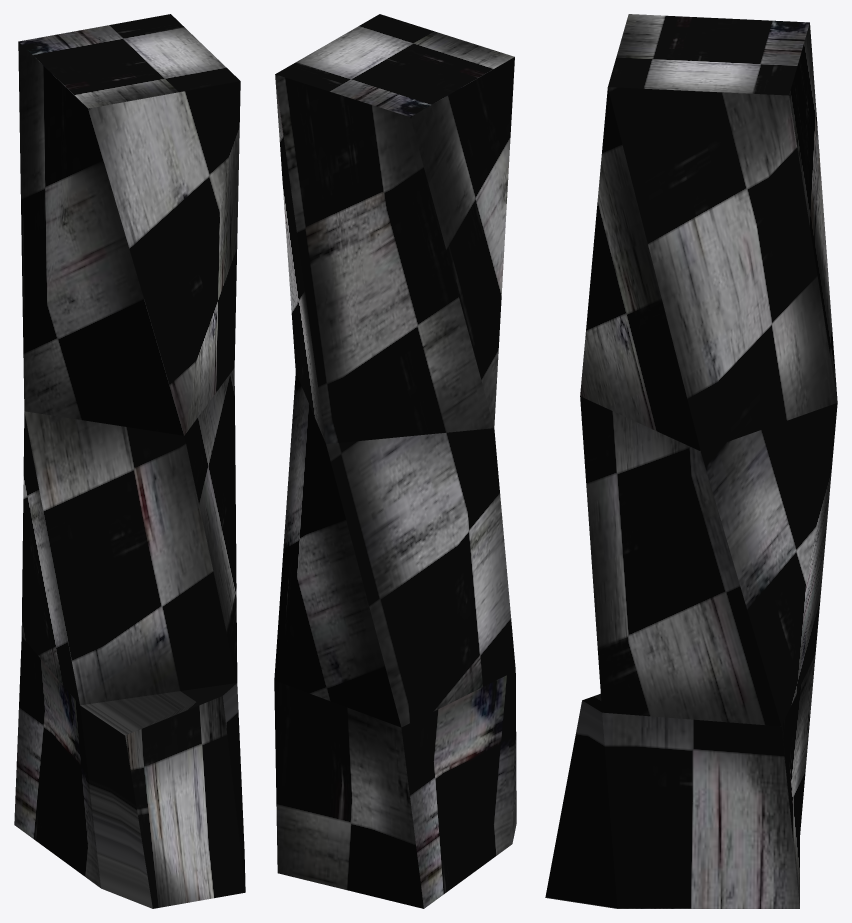
The model's file is R2_Peninsula.obj.
The picture shows the model from 3 angles, left to right: view 1: azimuth 30°, elevation 25°; view 2: azimuth 150°, elevation 25°; view 3: azimuth 270°, elevation 25°; orthographic projection. The views are drawn at different scales.
Parts seen in each view (by area): view 1: Cube.001_Cube.002; view 2: Cube.001_Cube.002; view 3: Cube.001_Cube.002.
Part boxes in pixels (x1,y1,x2,y2): Cube.001_Cube.002: (14,14,245,908); Cube.001_Cube.002: (274,14,516,908); Cube.001_Cube.002: (545,14,837,908).
Size of the model in its own units: 1.67 by 6.19 by 1.99.
1 material, 1 textured.
